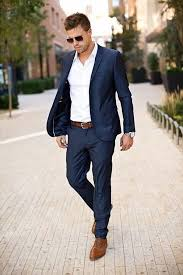F_M_suit jacket: (50, 50, 140, 136)
F_belt: (65, 116, 106, 131)
F_dress pants: (60, 126, 119, 241)
